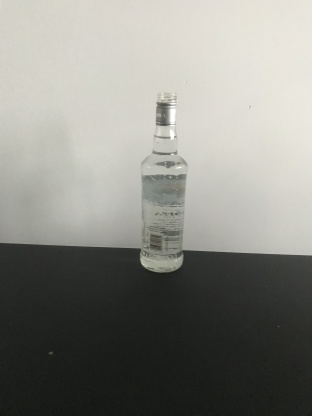nakretka: (154, 89, 179, 127)
